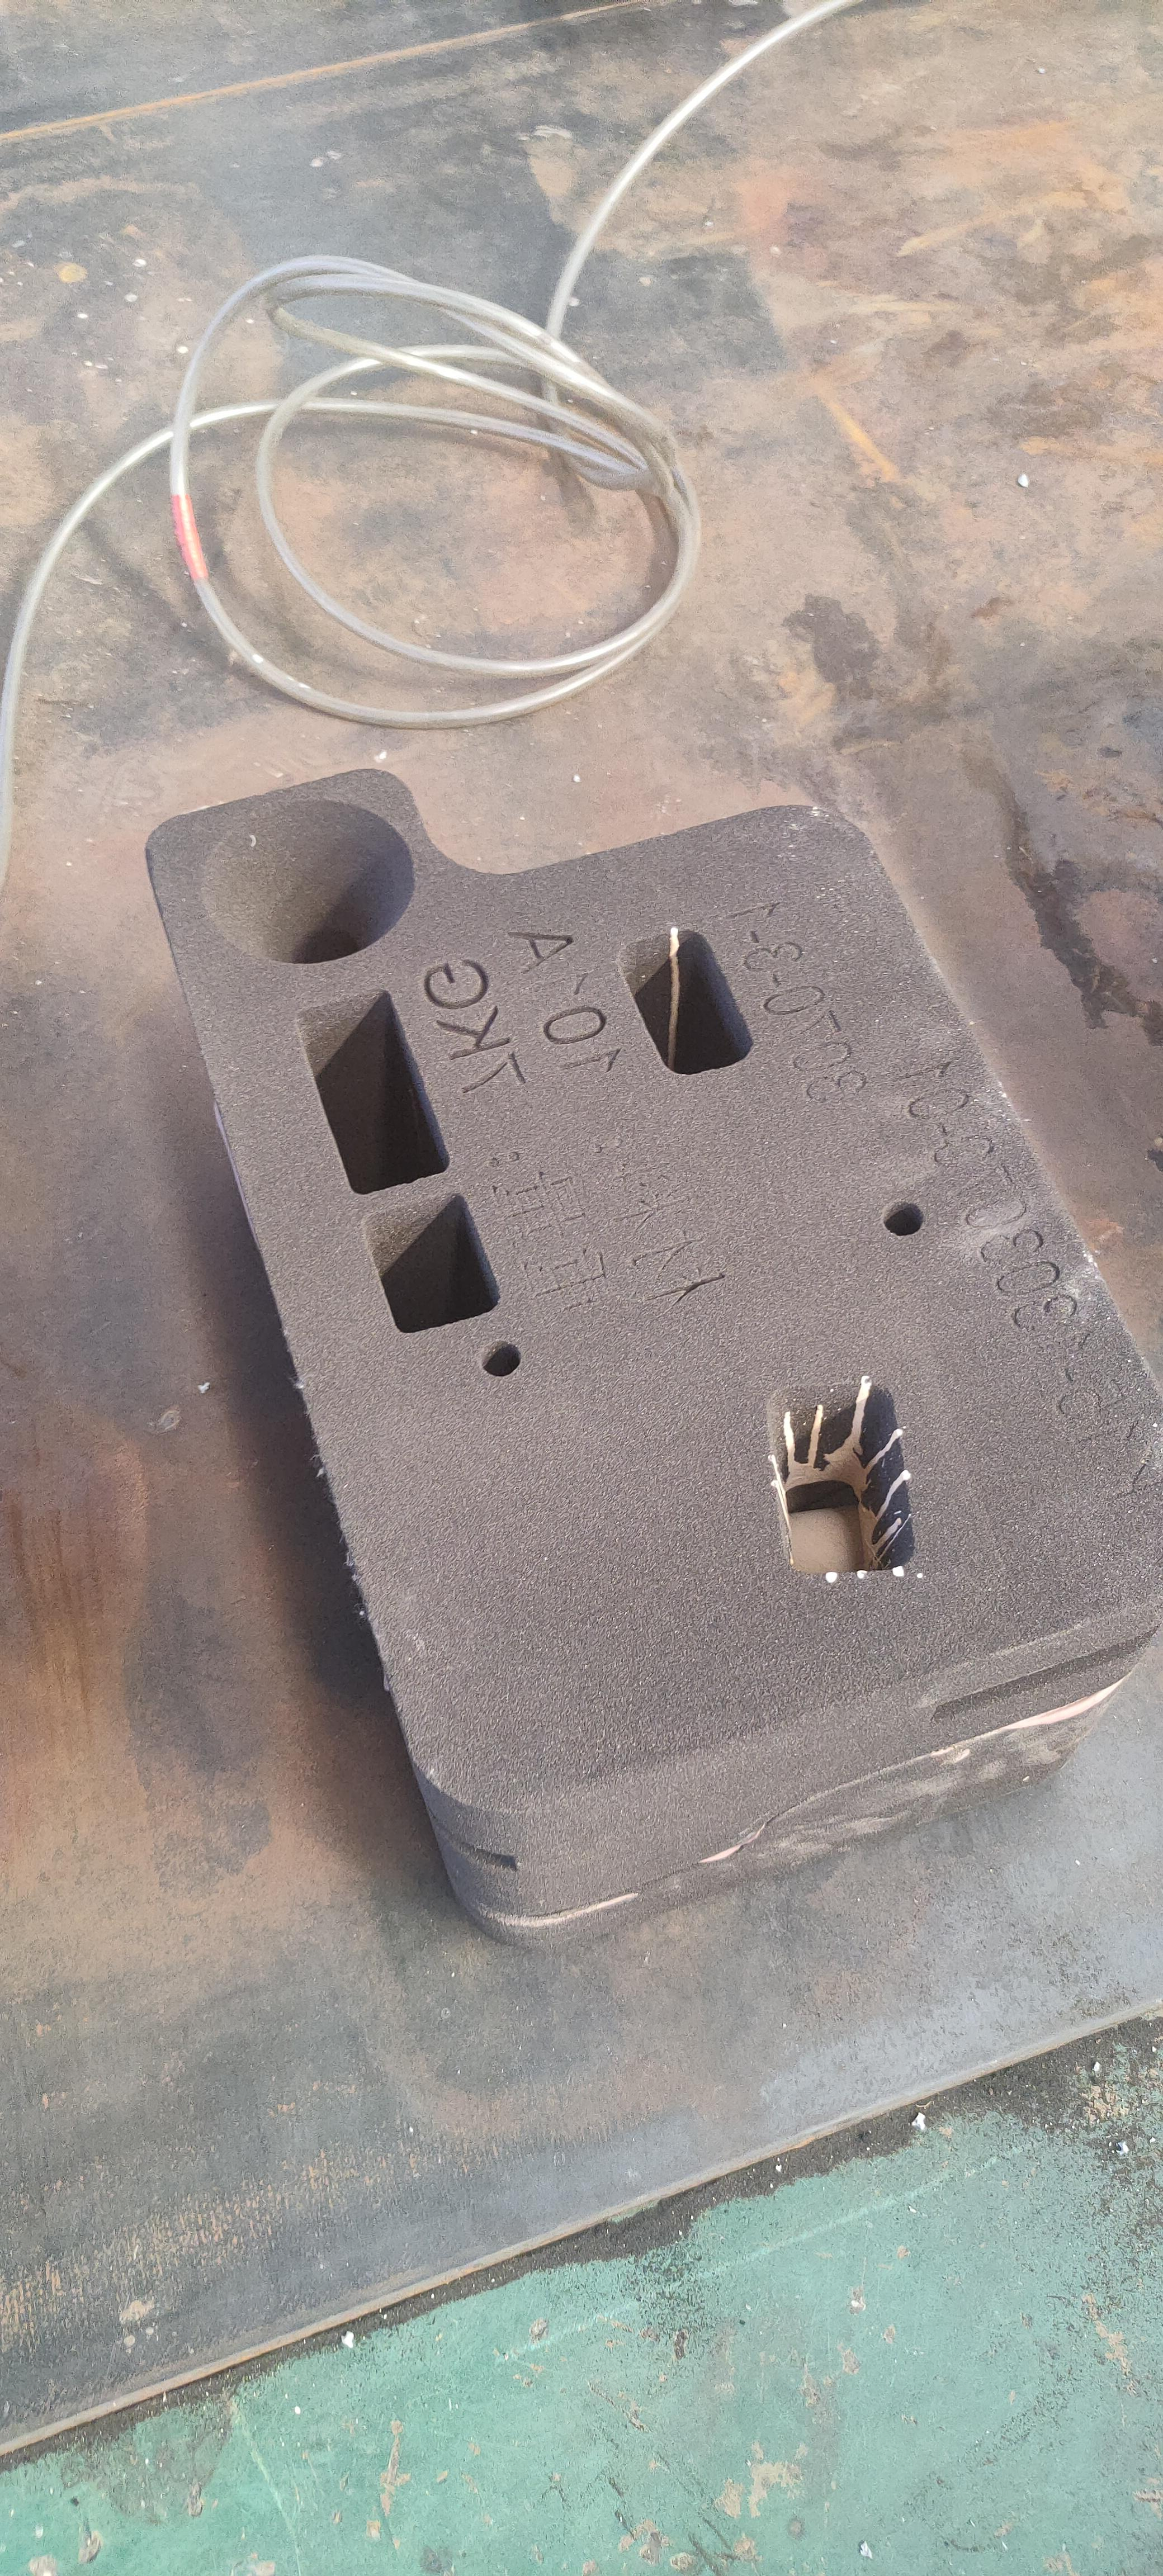pouring hole: (194, 800, 414, 971)
